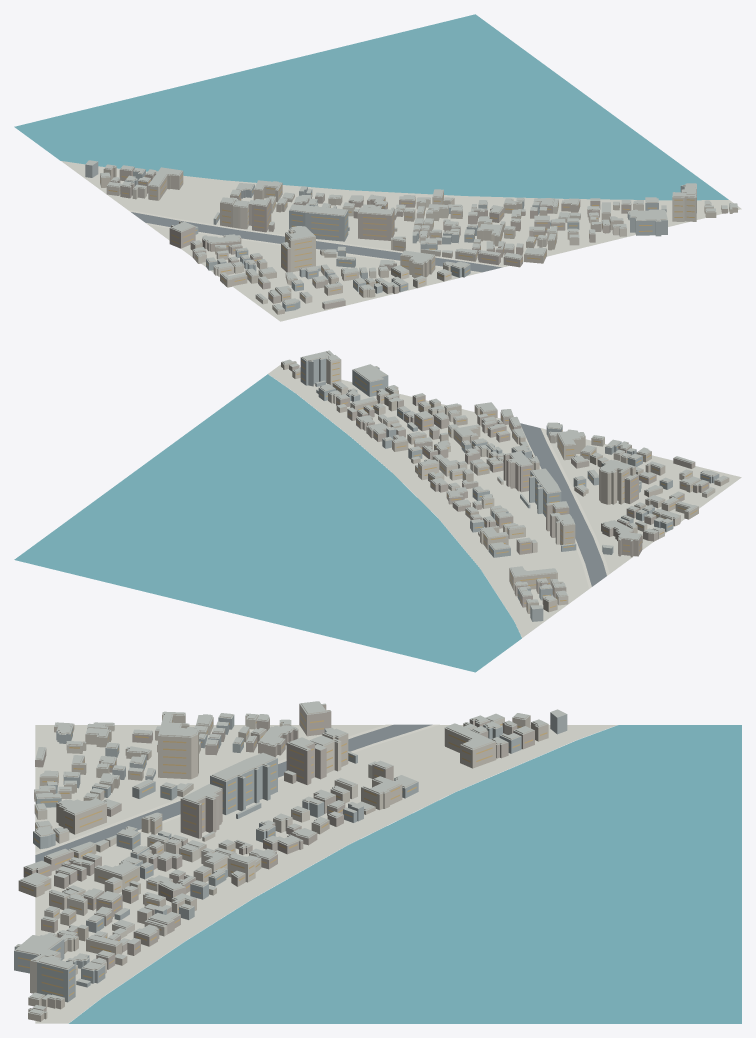
The picture shows the model from 3 angles, top to bottom: view 1: azimuth 30°, elevation 25°; view 2: azimuth 150°, elevation 25°; view 3: azimuth 270°, elevation 25°; orthographic projection. The views are drawn at different scales.
Parts seen in each view (by area): view 1: city; view 2: city; view 3: city.
Part boxes in pixels (x1,y1,x2,y2): city: [14, 14, 741, 321]; city: [14, 350, 741, 672]; city: [14, 701, 741, 1023].
Bounding box in the file's own units: 505 × 33.38 × 515.
